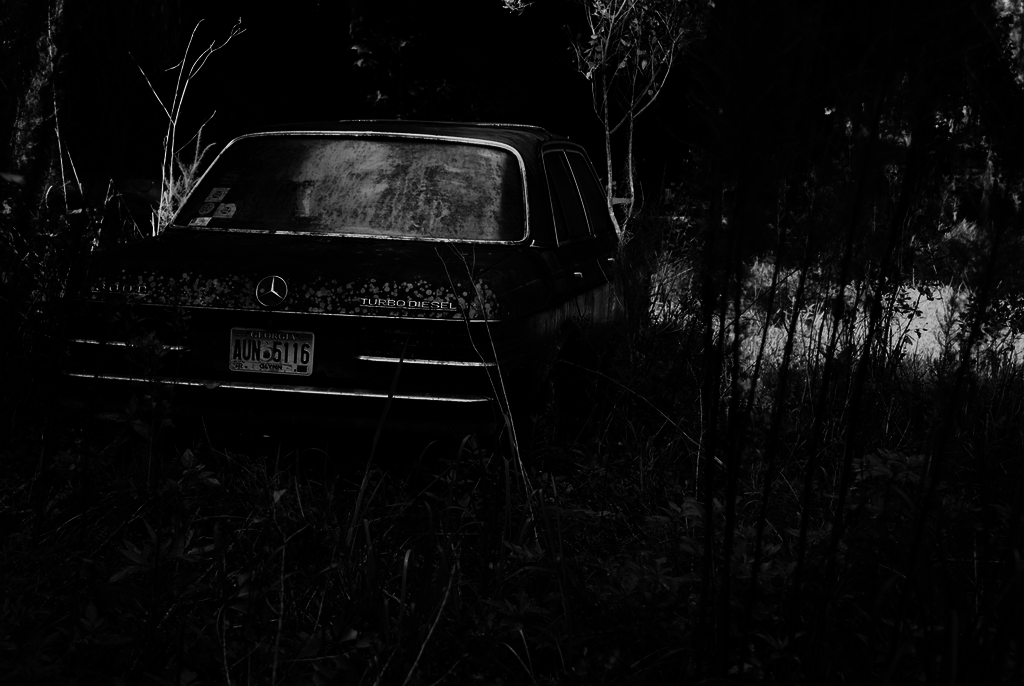car: (52, 113, 659, 466)
